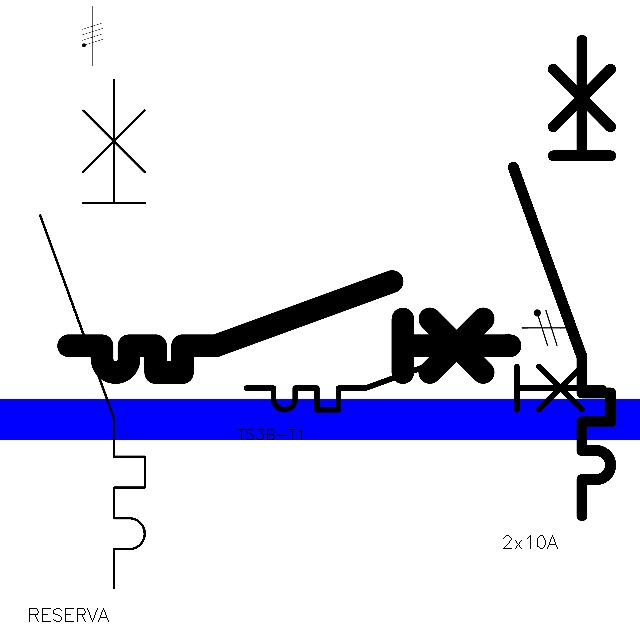interruptor_termomagnetico: (27, 66, 158, 601), (501, 28, 623, 528), (57, 270, 521, 384), (237, 327, 613, 419)
